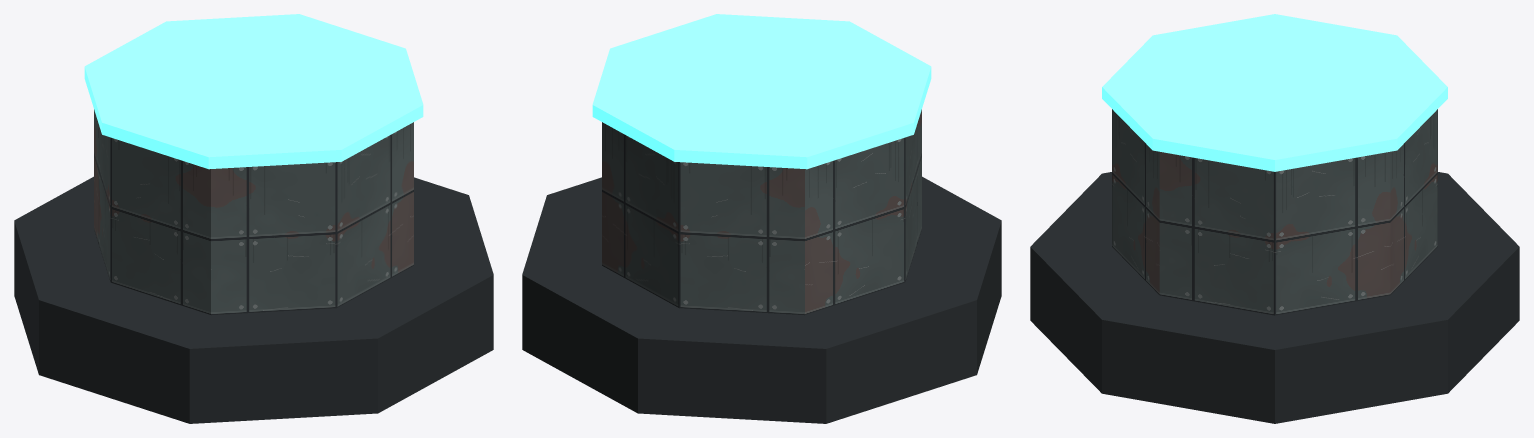
File: pedestal.glb
3 renders of one model, left to right at view 1: azimuth 30°, elevation 25°; view 2: azimuth 150°, elevation 25°; view 3: azimuth 270°, elevation 25°, orthographic.
Parts seen in each view (by area): view 1: pedestal; view 2: pedestal; view 3: pedestal.
Part boxes in pixels (left/top/right/bottom): pedestal: left=14, top=14, right=493, bottom=423; pedestal: left=522, top=14, right=1001, bottom=423; pedestal: left=1030, top=14, right=1519, bottom=423.
Size of the model in its own units: 1.5 by 0.79 by 1.5.
3 materials, 1 textured.
